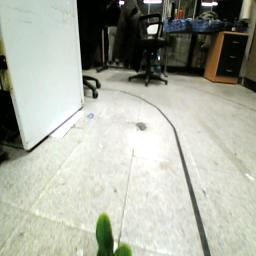herb: (95, 213, 135, 256)
